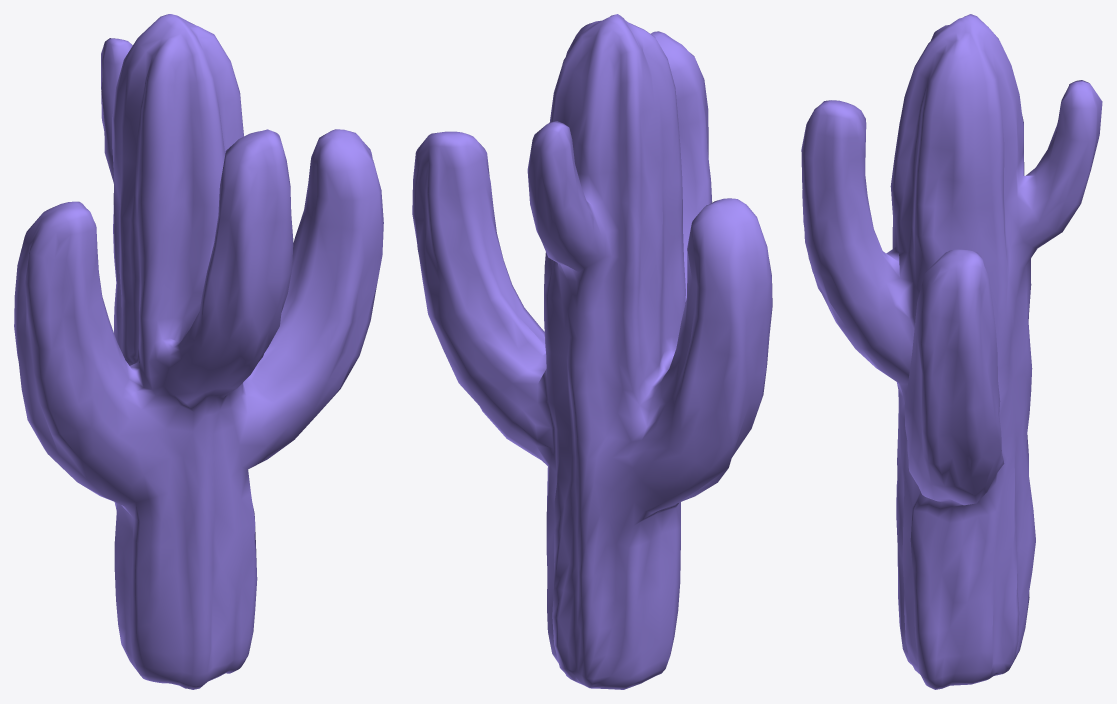
The model's file is cactus04.fbx.
The picture shows the model from 3 angles, left to right: view 1: azimuth 30°, elevation 25°; view 2: azimuth 150°, elevation 25°; view 3: azimuth 270°, elevation 25°; orthographic projection.
Parts seen in each view (by area): view 1: Merged_PM3D_Ring3D2; view 2: Merged_PM3D_Ring3D2; view 3: Merged_PM3D_Ring3D2.
Boxes of the visible parts, x1,y1,x2,y2 form: Merged_PM3D_Ring3D2: (14,14,383,689); Merged_PM3D_Ring3D2: (412,14,772,689); Merged_PM3D_Ring3D2: (801,14,1102,689).
Size of the model in its own units: 7.01 by 12.59 by 5.27.
